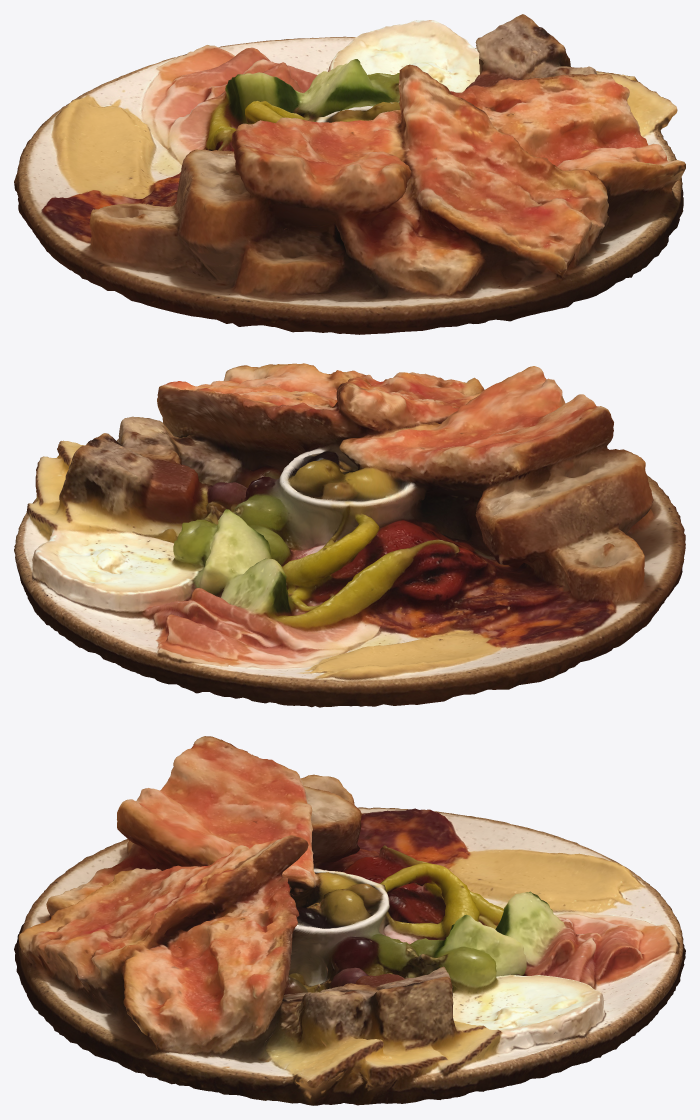
File: real app.glb
3 renders of one model, top to bottom at view 1: azimuth 30°, elevation 25°; view 2: azimuth 150°, elevation 25°; view 3: azimuth 270°, elevation 25°, orthographic.
Visible parts, largest first — view 1: Object_4; view 2: Object_4; view 3: Object_4.
Part boxes in pixels (x1,y1,x2,y2): Object_4: (14,14,685,334); Object_4: (14,363,685,707); Object_4: (14,736,685,1105).
Bounding box in the file's own units: 6.61 × 1.67 × 6.52.
3 materials, 2 textured.
